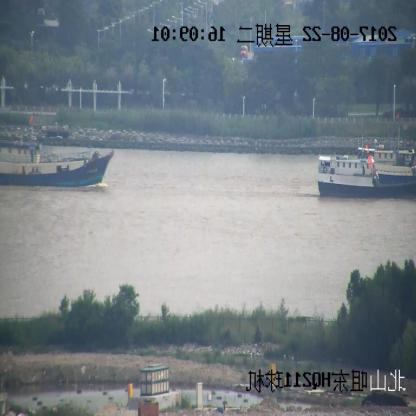Fishing Boat: (1, 113, 113, 188), (316, 147, 416, 198)
